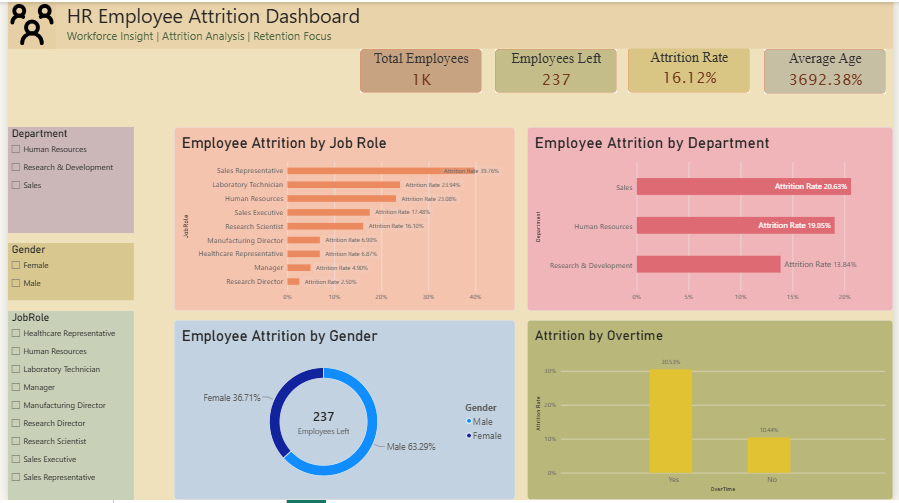

The page's visual inventory and layout, read from the dashboard file:
{"tool":"powerbi","page":{"name":"Page 1HR Overview","canvas":[1920,1080],"ordinal":0},"visuals":[{"type":"cardVisual","fields":{"Data":["HR_Employee_Attrition_Cleaned.Total Employees"]},"box":[763.4,101.9,264.6,95.4],"z":0},{"type":"cardVisual","fields":{"Data":["HR_Employee_Attrition_Cleaned.Employees Left"]},"box":[1056.1,101.9,264.6,95.4],"z":1000},{"type":"cardVisual","fields":{"Data":["HR_Employee_Attrition_Cleaned.Attrition Rate"]},"box":[1344.6,97.6,264.6,99.8],"z":2000},{"type":"cardVisual","fields":{"Data":["HR_Employee_Attrition_Cleaned.Average Age"]},"box":[1639.5,101.9,264.6,97.6],"z":3000},{"type":"clusteredBarChart","title":"Employee Attrition by Department","fields":{"Category":["HR_Employee_Attrition_Cleaned.Department"],"Y":["HR_Employee_Attrition_Cleaned.Attrition Rate"]},"box":[1125.5,271.1,793.7,399],"z":4000},{"type":"barChart","title":"Employee Attrition by Job Role","fields":{"Category":["HR_Employee_Attrition_Cleaned.JobRole"],"Y":["HR_Employee_Attrition_Cleaned.Attrition Rate"]},"box":[360,271.1,739.5,399],"z":5000},{"type":"donutChart","title":"Employee Attrition by Gender","fields":{"Category":["HR_Employee_Attrition_Cleaned.Gender"],"Y":["HR_Employee_Attrition_Cleaned.Employees Left"]},"box":[360,689.6,739.5,390.4],"z":6000},{"type":"clusteredColumnChart","title":"Attrition by Overtime","fields":{"Category":["HR_Employee_Attrition_Cleaned.OverTime"],"Y":["HR_Employee_Attrition_Cleaned.Attrition Rate"]},"box":[1125.5,689.6,793.7,390.4],"z":7000},{"type":"textbox","box":[104.1,0,1815.2,101],"z":7001},{"type":"image","box":[0,0,104.1,101.9],"z":7002},{"type":"slicer","fields":{"Values":["HR_Employee_Attrition_Cleaned.Department"]},"box":[0,271.1,273.3,229.9],"z":7003},{"type":"slicer","fields":{"Values":["HR_Employee_Attrition_Cleaned.Gender"]},"box":[0,522.7,273.3,123.6],"z":7004},{"type":"slicer","fields":{"Values":["HR_Employee_Attrition_Cleaned.JobRole"]},"box":[0,670.1,273.3,409.9],"z":7005}]}

Visuals, with their boxes in screenshot pixels (x1, y1, x2, y2), scaled from the page's 1920x1080 canvas onto the 899x503 screenshot:
cardVisual - HR_Employee_Attrition_Cleaned.Total Employees: 357/47/481/92
cardVisual - HR_Employee_Attrition_Cleaned.Employees Left: 494/47/618/92
cardVisual - HR_Employee_Attrition_Cleaned.Attrition Rate: 630/45/753/92
cardVisual - HR_Employee_Attrition_Cleaned.Average Age: 768/47/892/93
"Employee Attrition by Department" clusteredBarChart: 527/126/898/312
"Employee Attrition by Job Role" barChart: 169/126/515/312
"Employee Attrition by Gender" donutChart: 169/321/515/502
"Attrition by Overtime" clusteredColumnChart: 527/321/898/502
textbox: 49/0/898/47
image: 0/0/49/47
slicer - HR_Employee_Attrition_Cleaned.Department: 0/126/128/233
slicer - HR_Employee_Attrition_Cleaned.Gender: 0/243/128/301
slicer - HR_Employee_Attrition_Cleaned.JobRole: 0/312/128/502
